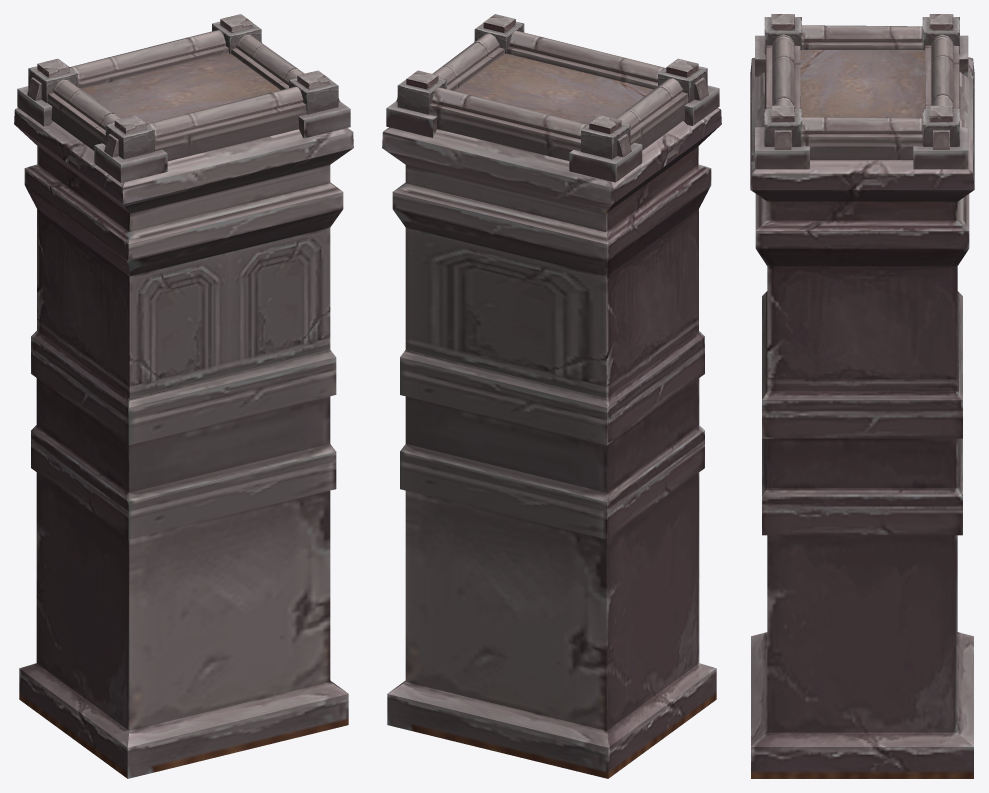
3 renders of one model, left to right at view 1: azimuth 30°, elevation 25°; view 2: azimuth 150°, elevation 25°; view 3: azimuth 270°, elevation 25°, orthographic. The views are drawn at different scales.
Parts seen in each view (by area): view 1: 52095_02; view 2: 52095_02; view 3: 52095_02.
Part boxes in pixels (x1,y1,x2,y2): 52095_02: [14, 14, 353, 778]; 52095_02: [382, 14, 721, 778]; 52095_02: [750, 14, 974, 778].
Size of the model in its own units: 592 by 1572 by 486.
